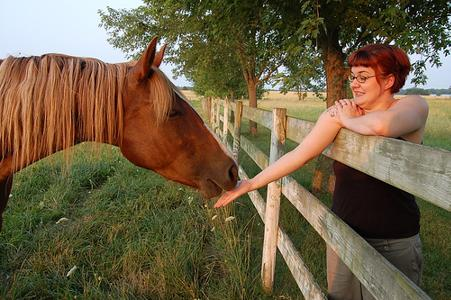person: (213, 43, 429, 300)
